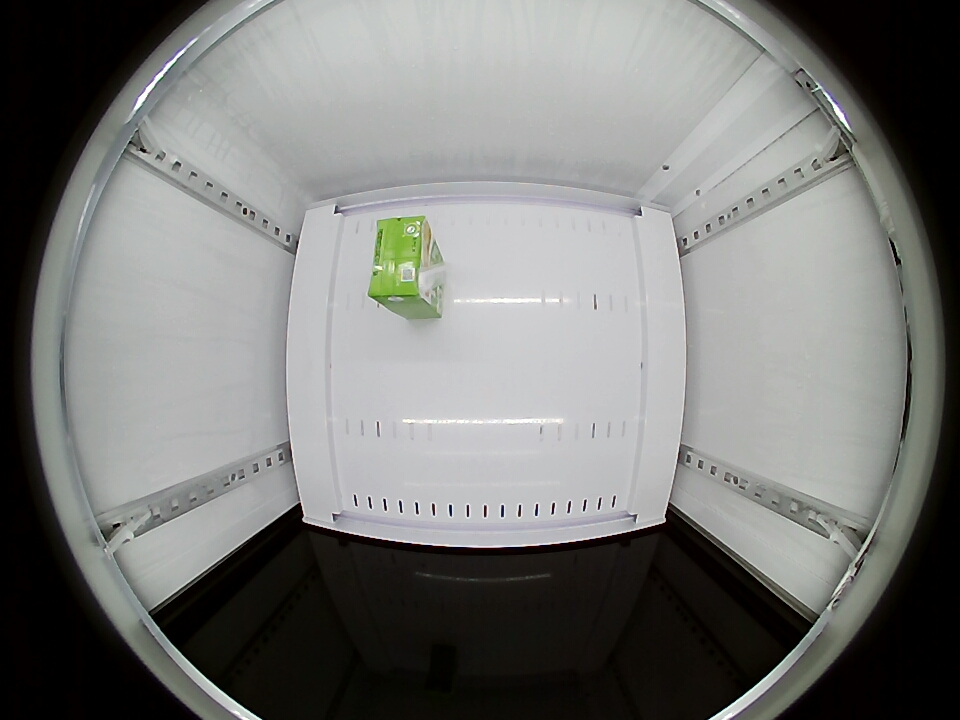mengniuzaocan: (370, 215, 438, 309)
